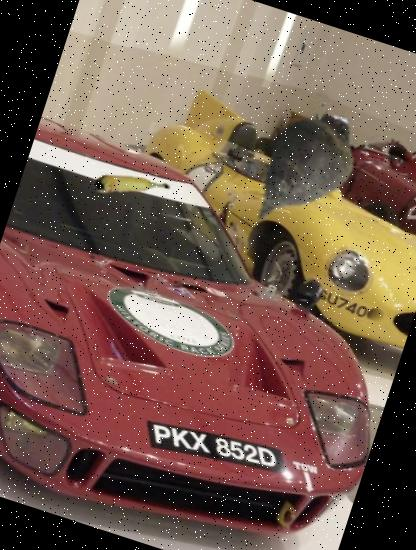Banana: (83, 136, 181, 234)
Beetroot: (213, 80, 396, 262)
